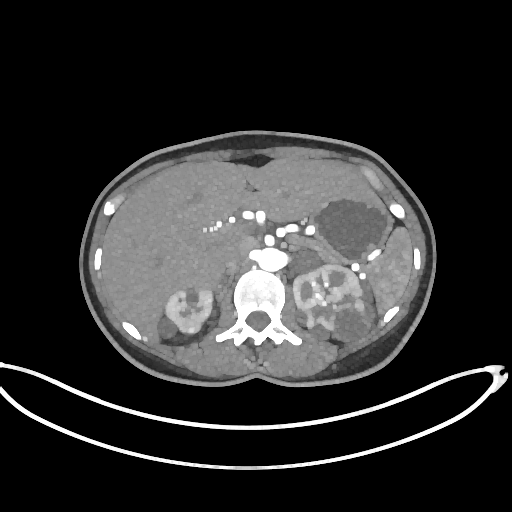Lesion: (181, 322, 201, 335)
